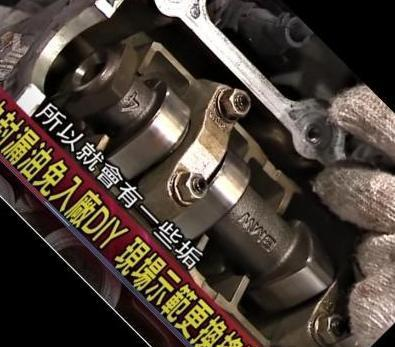hole: (300, 121, 326, 147)
